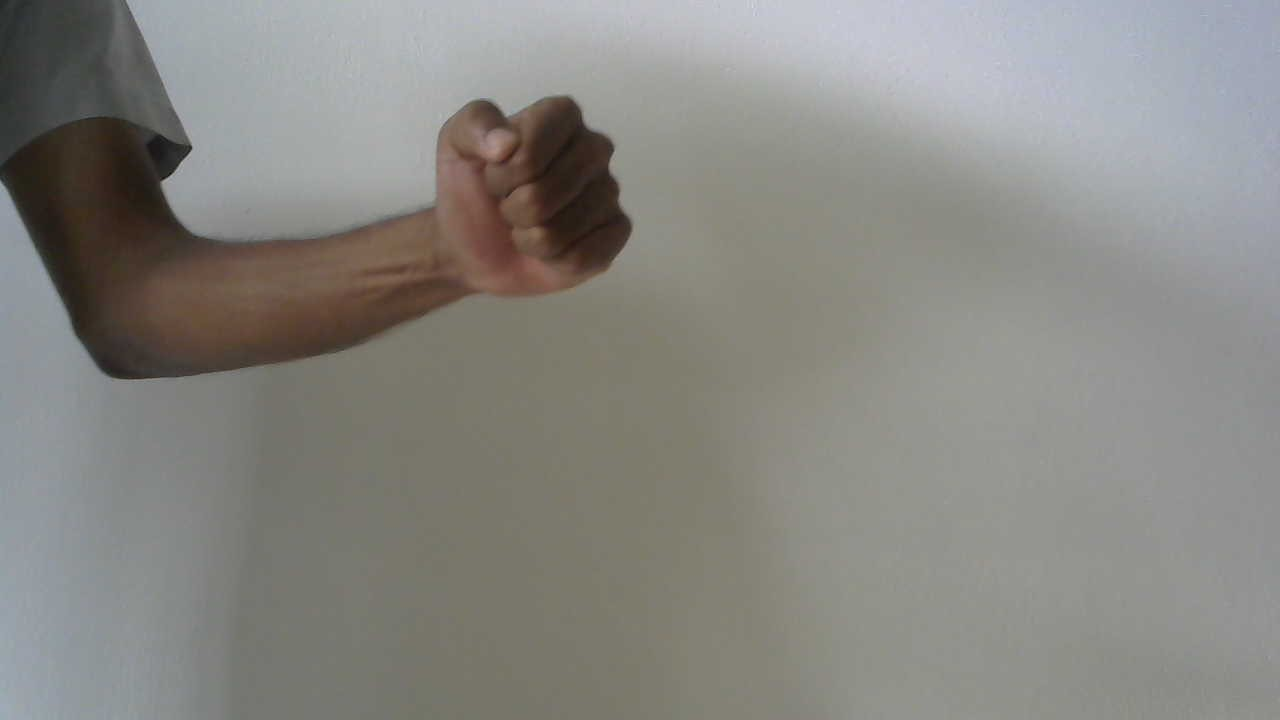yes: (424, 75, 649, 339)
